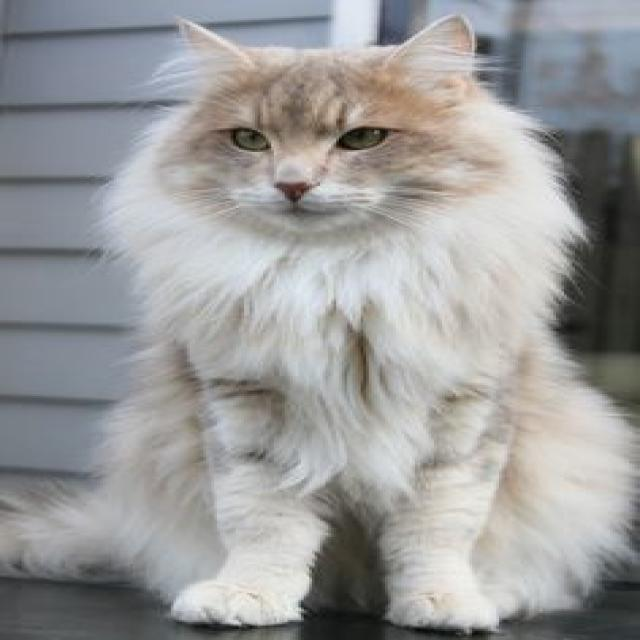da khoe manh: (122, 240, 580, 569)
